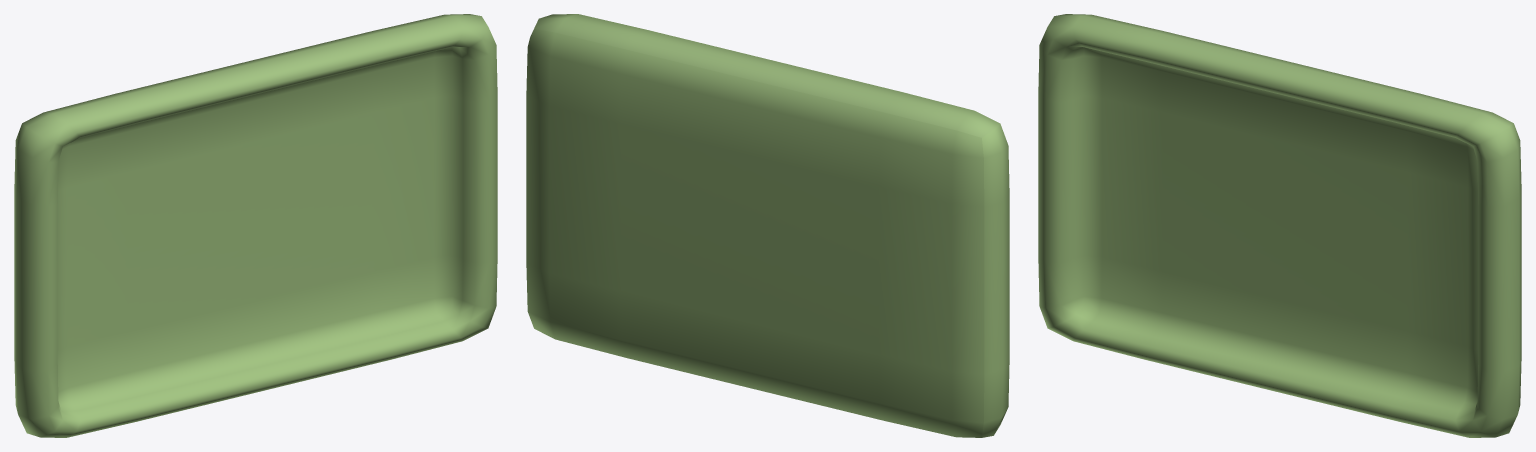
Rendered from nft_frame.glb.
The picture shows the model from 3 angles, left to right: view 1: azimuth 30°, elevation 25°; view 2: azimuth 150°, elevation 25°; view 3: azimuth 330°, elevation 25°; orthographic projection.
Visible parts, largest first — view 1: NFT_frame; view 2: NFT_frame; view 3: NFT_frame.
Boxes of the visible parts, x1=… form: NFT_frame: x1=14, y1=14, x2=497, y2=437; NFT_frame: x1=526, y1=14, x2=1009, y2=437; NFT_frame: x1=1038, y1=14, x2=1521, y2=437.
Size of what is drawn, in the model's own units: 1.68 by 1.09 by 0.1885.
1 material, 1 textured.
